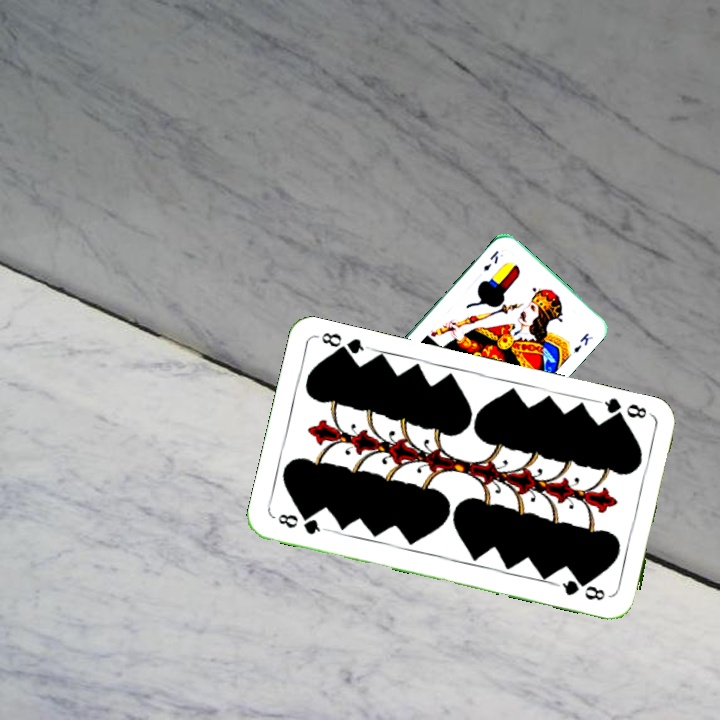EK: (479, 246, 501, 274)
G8: (596, 393, 649, 425), (274, 510, 329, 537)
